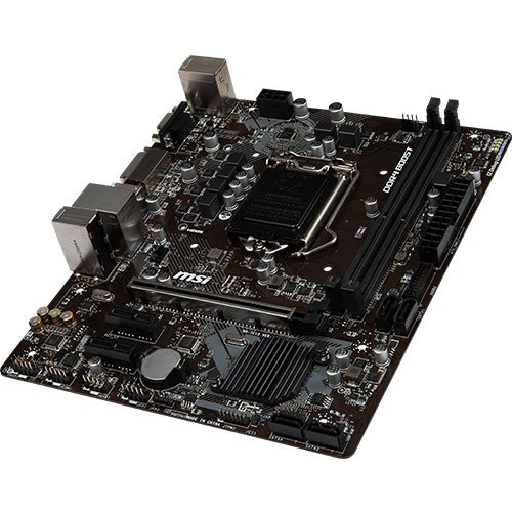CPU: (219, 146, 356, 257)
GPU: (126, 274, 303, 333)
MOTHERBOARD: (3, 53, 509, 459)
RAM: (323, 93, 463, 322)
